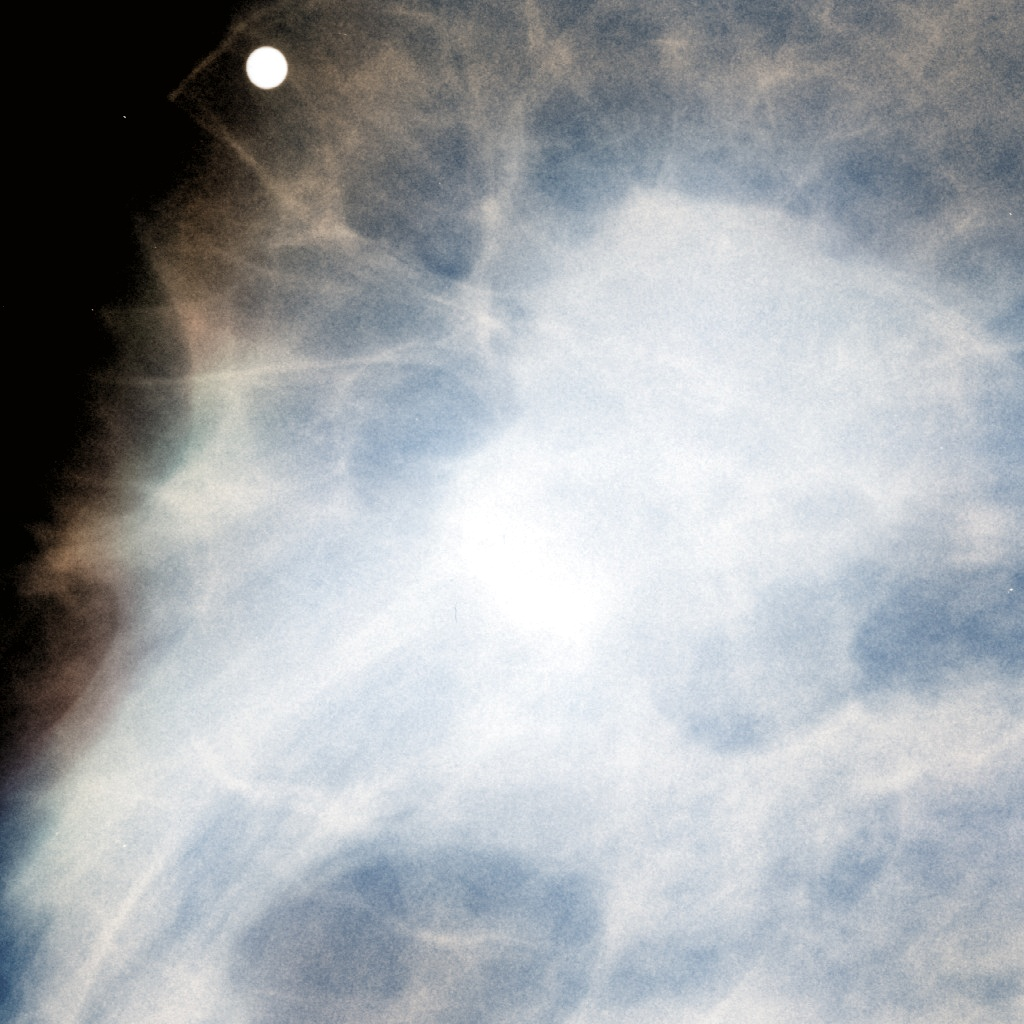tumor: (112, 135, 912, 889)
